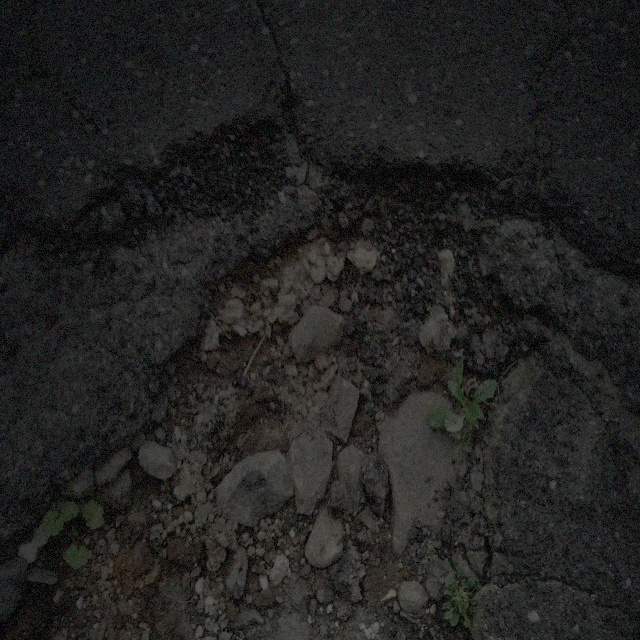pothole: (51, 151, 539, 596)
